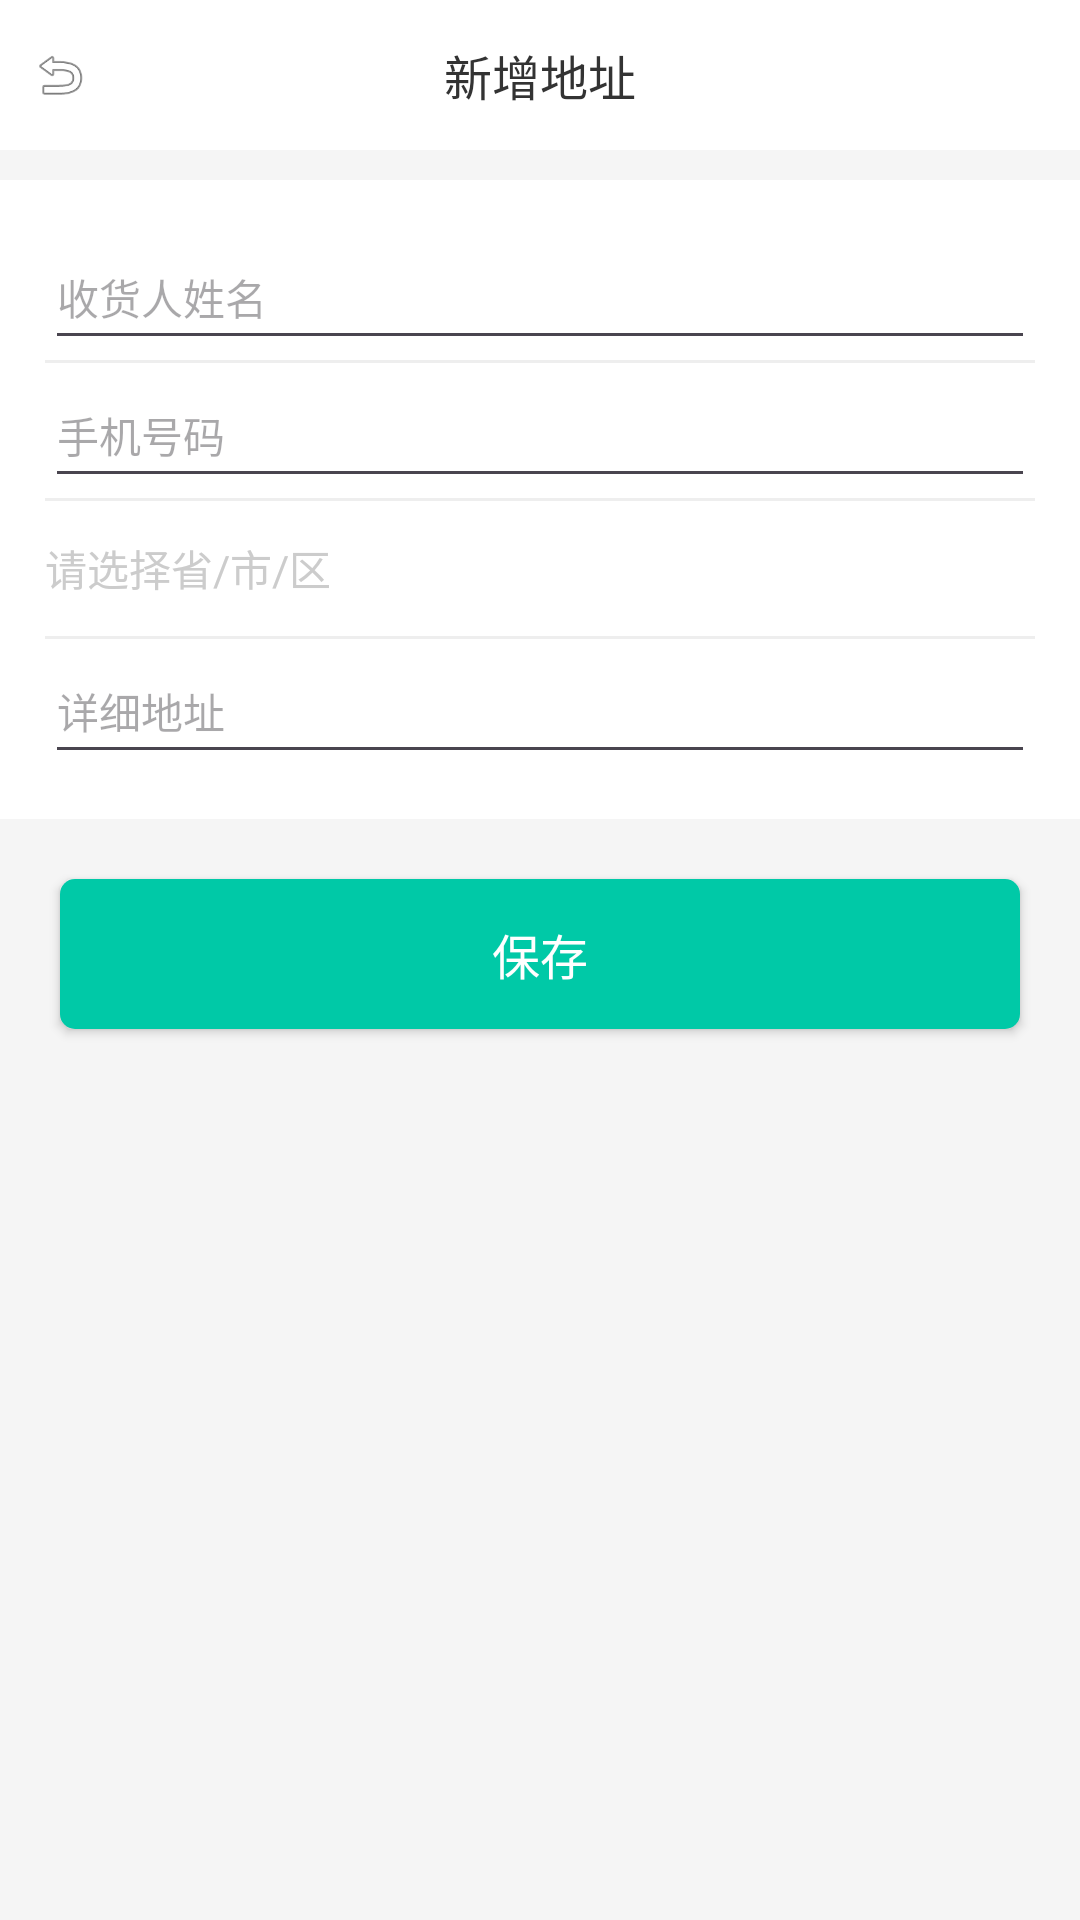

Locate icon controls on the screen. Image size 1080w x 1920h, boxes as bbox(x1, y1, x2, y2).
revert: bbox(39, 56, 83, 95)
